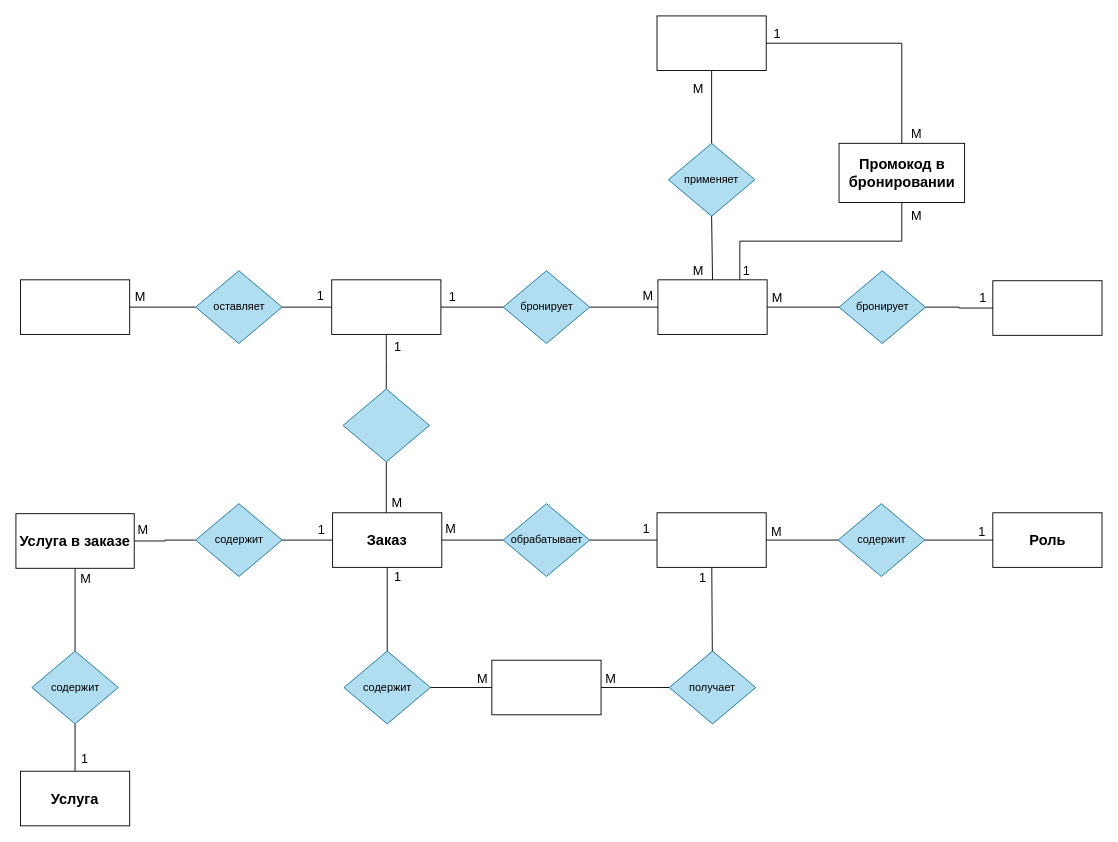
Some shapes in this 1118 by 842 pixel diagram are drawn without their labels. Each missing label, with the centre of its shape:
Бронь: point 712,306
Гость: point 386,306
Номер: point 1047,307
Отзыв: point 75,306
Промокод: point 711,43
создает: point 386,425
Сотрудник: point 711,539
Уведомления: point 546,687
